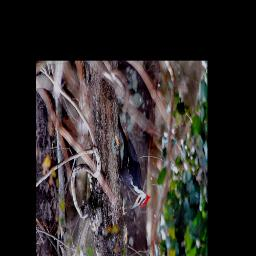Woodpecker: (118, 112, 153, 210)
